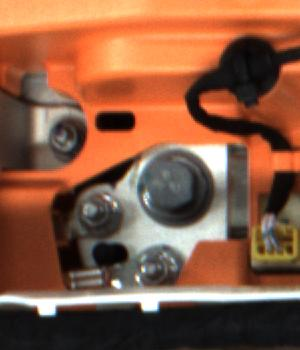nut_b: (131, 145, 226, 225)
